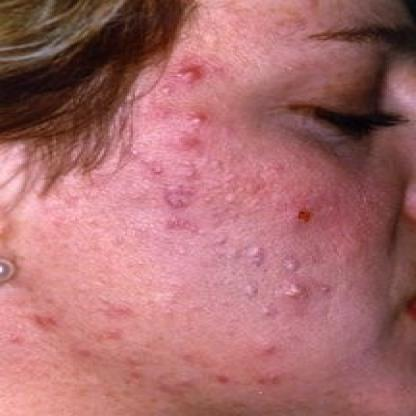Acne: (174, 60, 206, 87), (244, 242, 278, 266), (281, 276, 308, 306), (185, 110, 207, 131)
